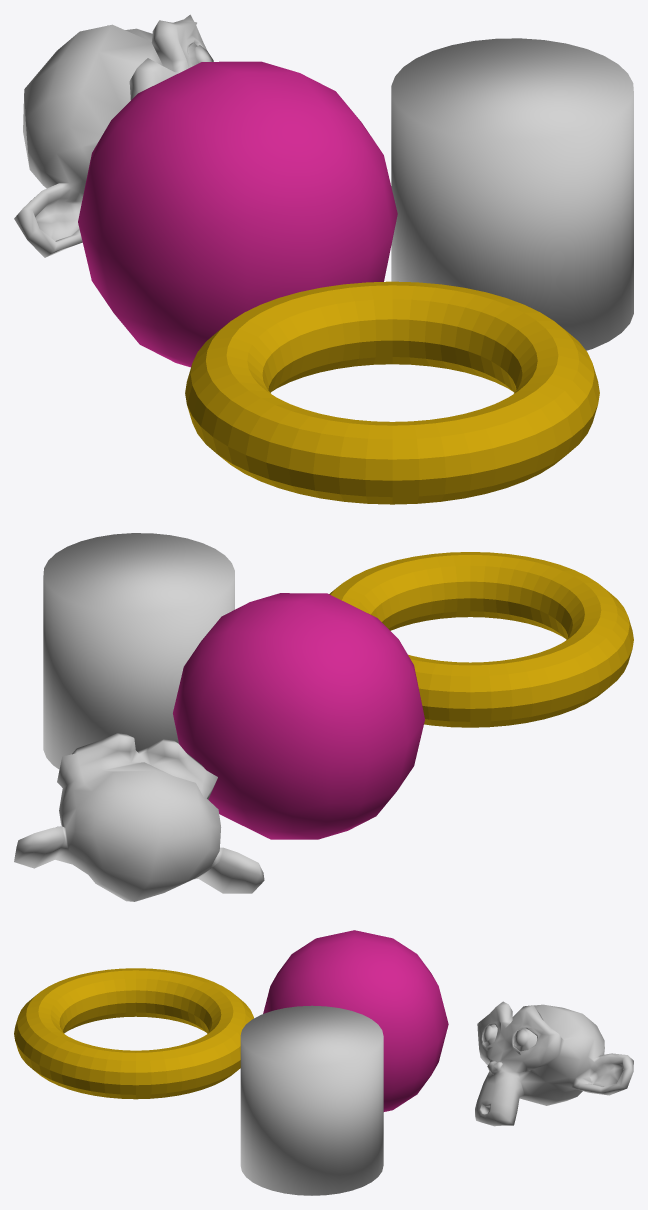
Rendered from BlenderTestExplort.obj.
3 views of the same model, one above another, from view 1: azimuth 30°, elevation 25°; view 2: azimuth 150°, elevation 25°; view 3: azimuth 270°, elevation 25° (orthographic). The views are drawn at different scales.
Visible parts, largest first — view 1: Cube, Torus, Cylinder, Suzanne; view 2: Cube, Cylinder, Torus, Suzanne; view 3: Cylinder, Torus, Cube, Suzanne.
Boxes of the visible parts, x1,y1,x2,y2 form: Cube: (78,61,397,367); Torus: (185,281,599,504); Cylinder: (391,38,633,350); Suzanne: (14,14,213,257); Cube: (173,593,424,839); Cylinder: (43,533,234,769); Torus: (329,552,633,727); Suzanne: (14,733,264,901); Cylinder: (240,1005,383,1195); Torus: (14,968,253,1099); Cube: (263,930,448,1111); Suzanne: (475,1001,633,1126).
Size of what is drawn, in the model's own units: 5.27 by 2.63 by 8.67.
